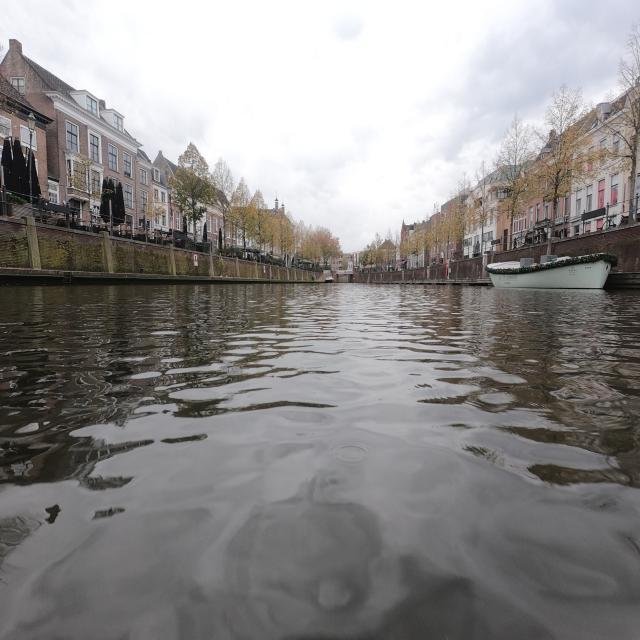boat: (492, 254, 612, 286)
dock: (0, 268, 286, 283), (604, 270, 640, 289)
sky: (2, 8, 638, 246)
wall: (356, 264, 460, 286)
water: (12, 290, 638, 634)
